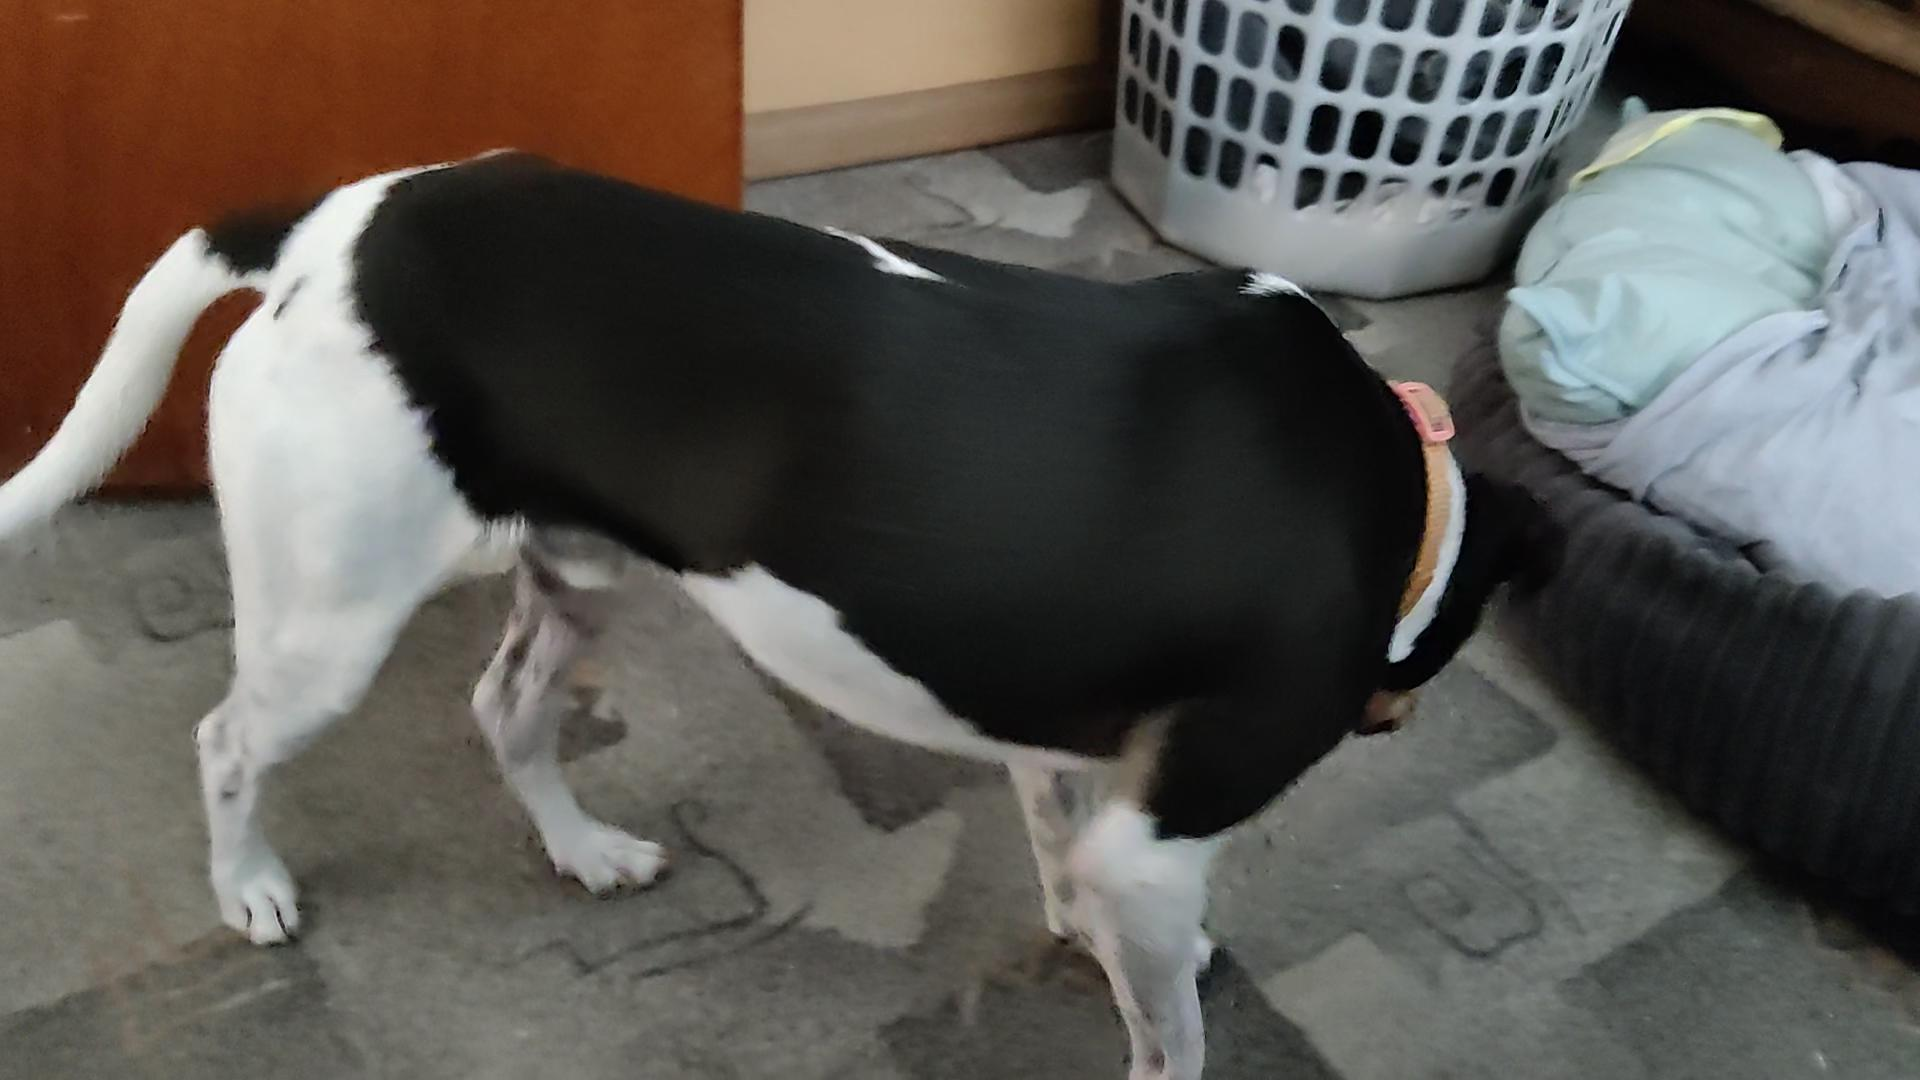Dog: (0, 138, 1578, 1079)
